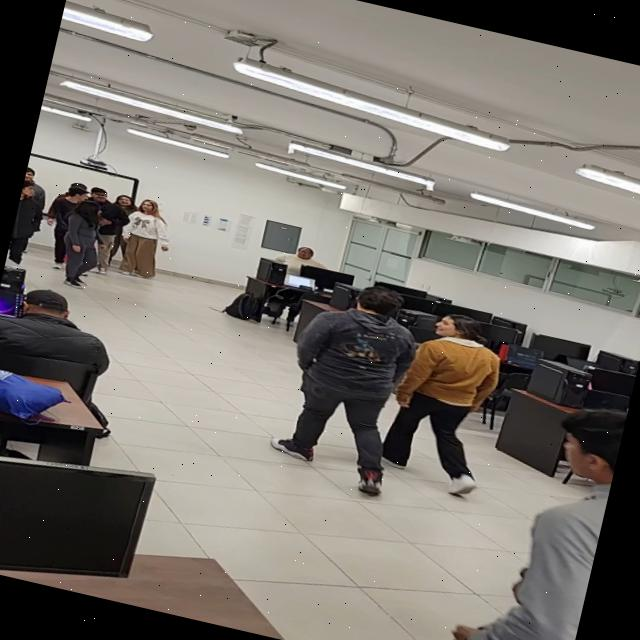Persona: (256, 268, 421, 498), (373, 300, 525, 502), (52, 195, 117, 292), (118, 194, 181, 284), (82, 185, 135, 262), (5, 179, 50, 267)
